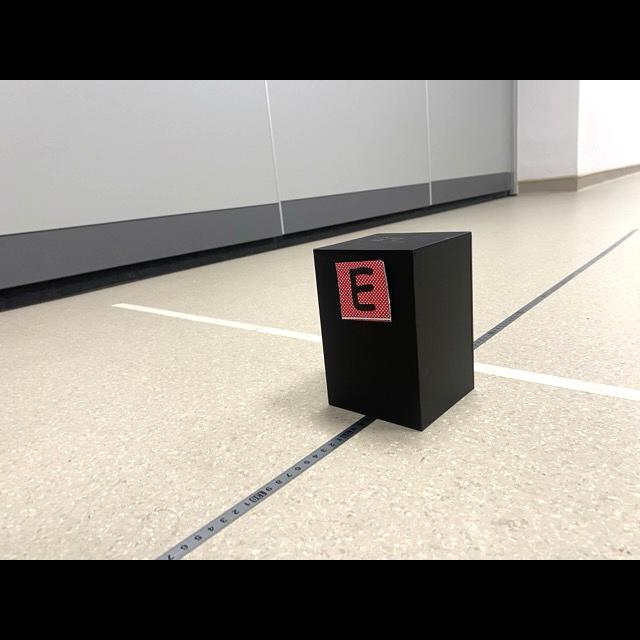E: (350, 267, 375, 310)
